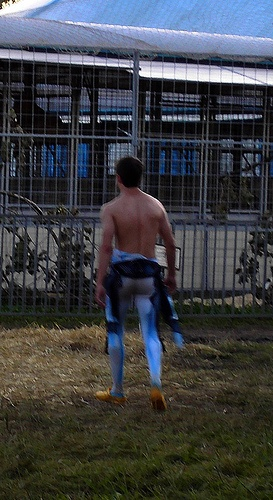head: (114, 156, 144, 190)
person: (88, 148, 183, 411)
